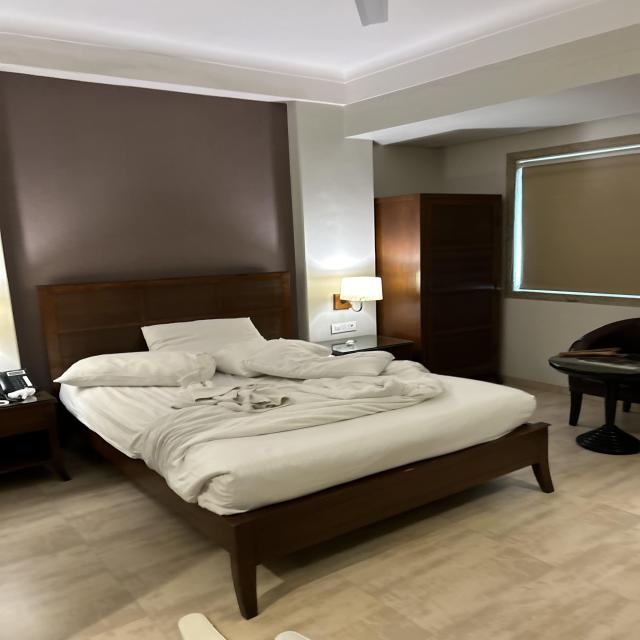mess: (40, 318, 537, 530), (152, 605, 332, 640)
